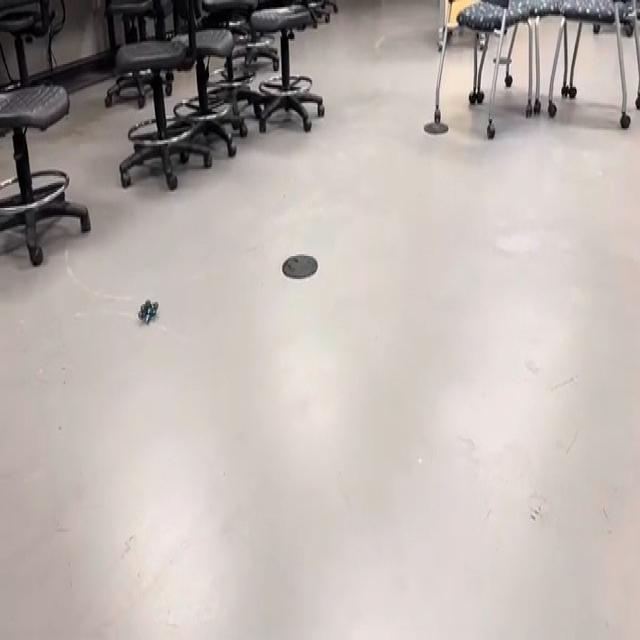drone: (131, 278, 166, 334)
